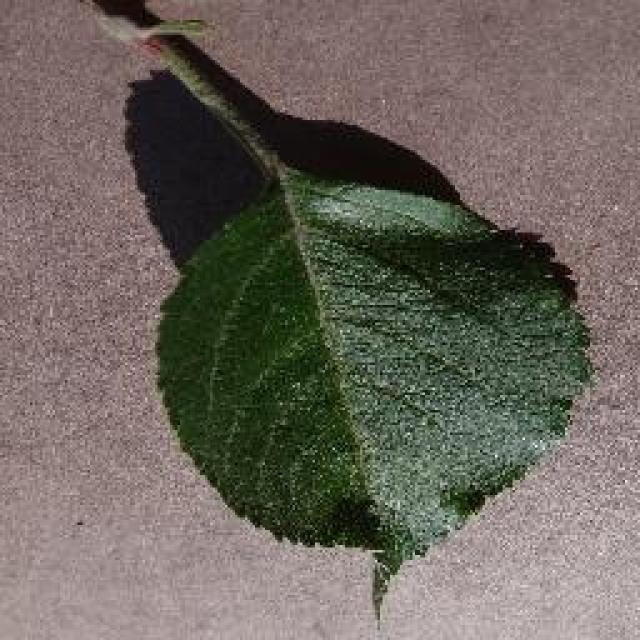apple healthy: (67, 0, 597, 622)
